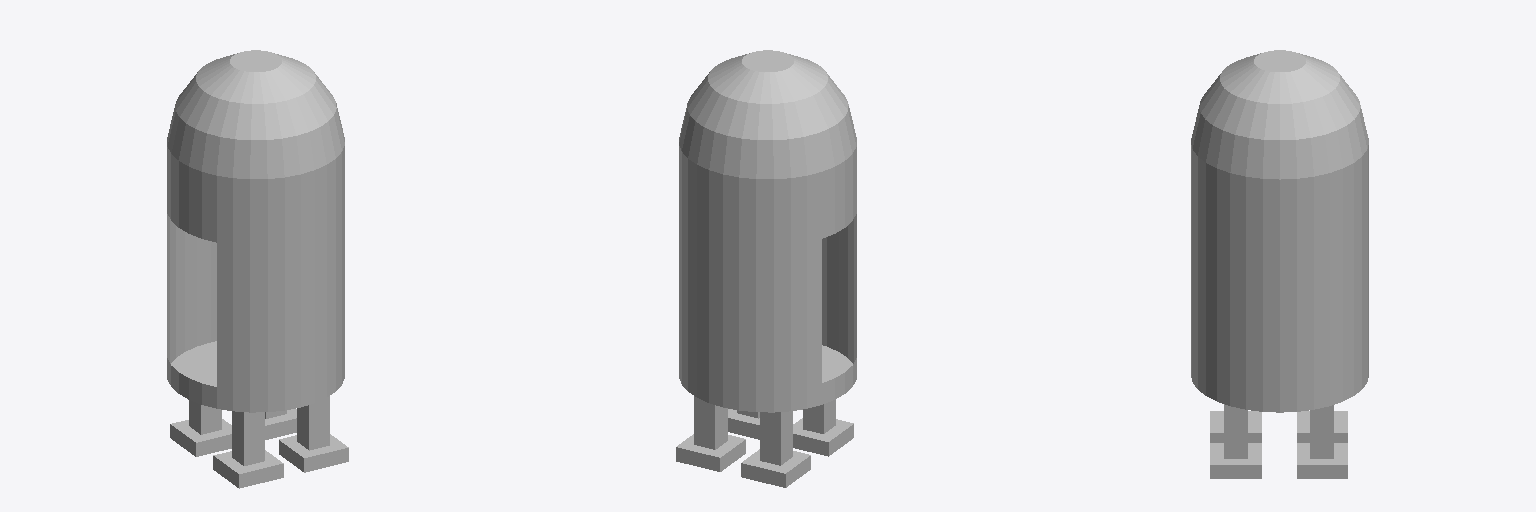
File: Vaisseau_V1.obj
3 views of the same model, side by side, from view 1: azimuth 30°, elevation 25°; view 2: azimuth 150°, elevation 25°; view 3: azimuth 270°, elevation 25° (orthographic).
Parts seen in each view (by area): view 1: Cylinder; view 2: Cylinder; view 3: Cylinder.
Part boxes in pixels (bbox=[...]): Cylinder: bbox=[167, 50, 348, 488]; Cylinder: bbox=[676, 50, 856, 487]; Cylinder: bbox=[1191, 50, 1368, 478].
Bounding box in the file's own units: 2 × 4.81 × 2.